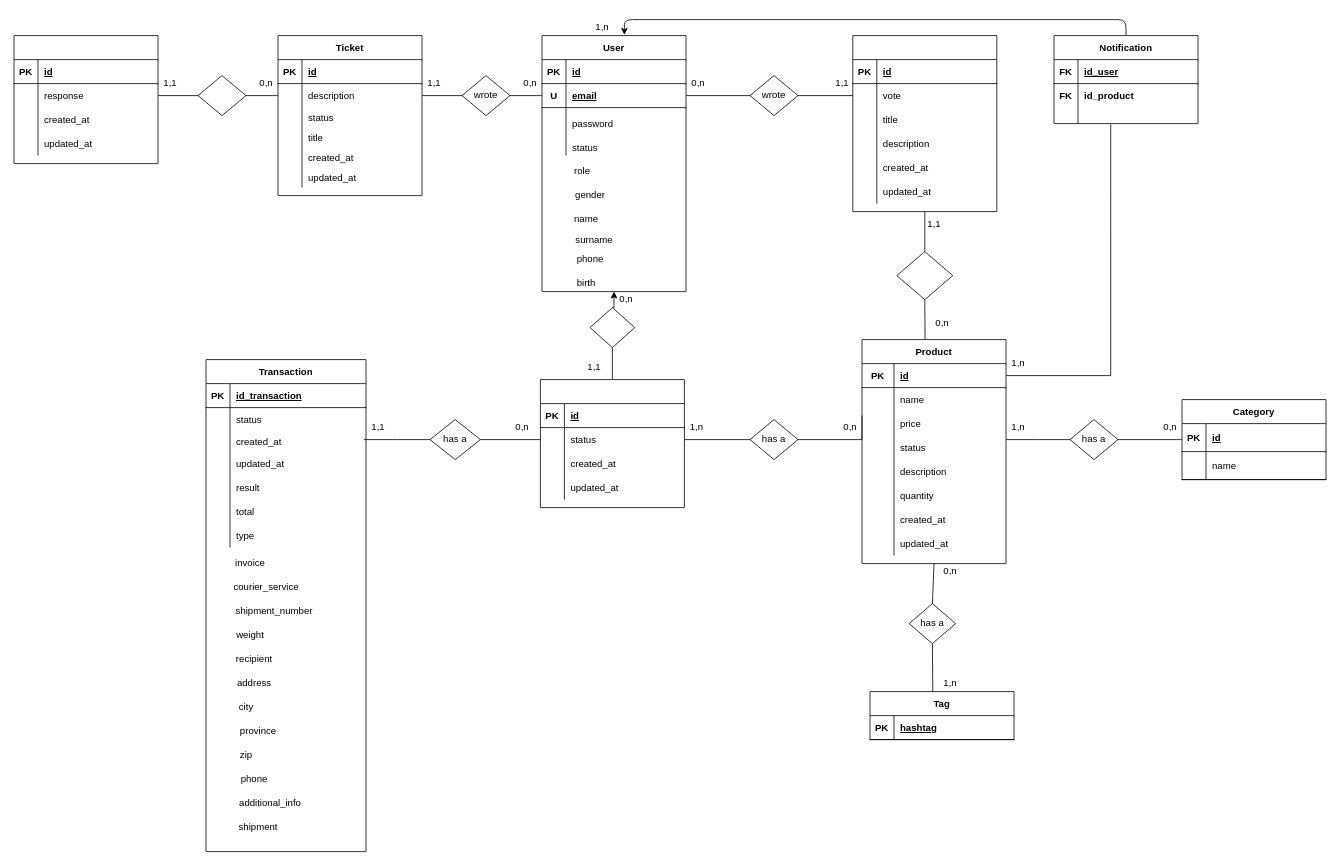
This 1340x866 diagram has some shape labels left out. The box of each missing label's shape, as (x1, y1, x2, y2) in pixels:
afferents: (896, 251, 953, 300)
Feedback: (852, 35, 997, 212)
has: (197, 75, 246, 116)
makes: (589, 307, 635, 348)
Order: (540, 379, 684, 508)
Ticket Response: (13, 35, 158, 164)
